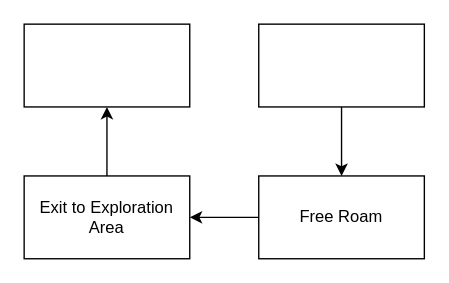
Some shapes in this 449 by 283 pixel diagram are drawn without their labels. The box of each missing label's shape, as (x1, y1, x2, y2) in pixels:
Enter Home Base: (257, 23, 424, 107)
Load Exploration Area Scene: (23, 23, 190, 107)
